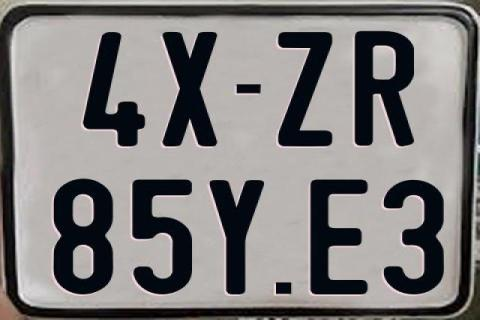0: (83, 30, 151, 148), (132, 177, 198, 292), (52, 177, 116, 295), (381, 180, 442, 298)
E: (307, 177, 371, 293)
R: (355, 30, 417, 146)
X: (161, 30, 217, 146)
Y: (208, 180, 269, 298)
Z: (277, 31, 333, 146)
